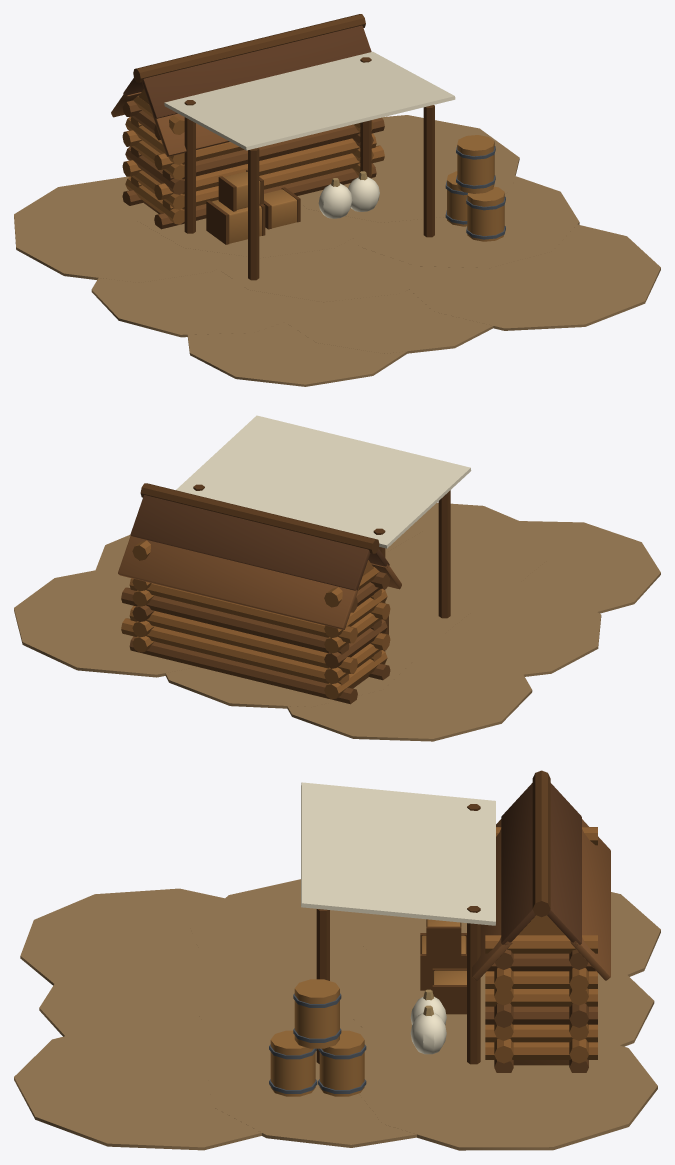
File: magazyn_poz03.glb
3 renders of one model, top to bottom at view 1: azimuth 30°, elevation 25°; view 2: azimuth 150°, elevation 25°; view 3: azimuth 270°, elevation 25°, orthographic. The views are drawn at different scales.
Parts seen in each view (by area): view 1: magazyn_poz03; view 2: magazyn_poz03; view 3: magazyn_poz03.
Part boxes in pixels (bbox=[...]): magazyn_poz03: bbox=[14, 14, 660, 386]; magazyn_poz03: bbox=[14, 415, 660, 741]; magazyn_poz03: bbox=[14, 770, 660, 1150].
Bounding box in the file's own units: 8.55 × 2.64 × 8.6.
